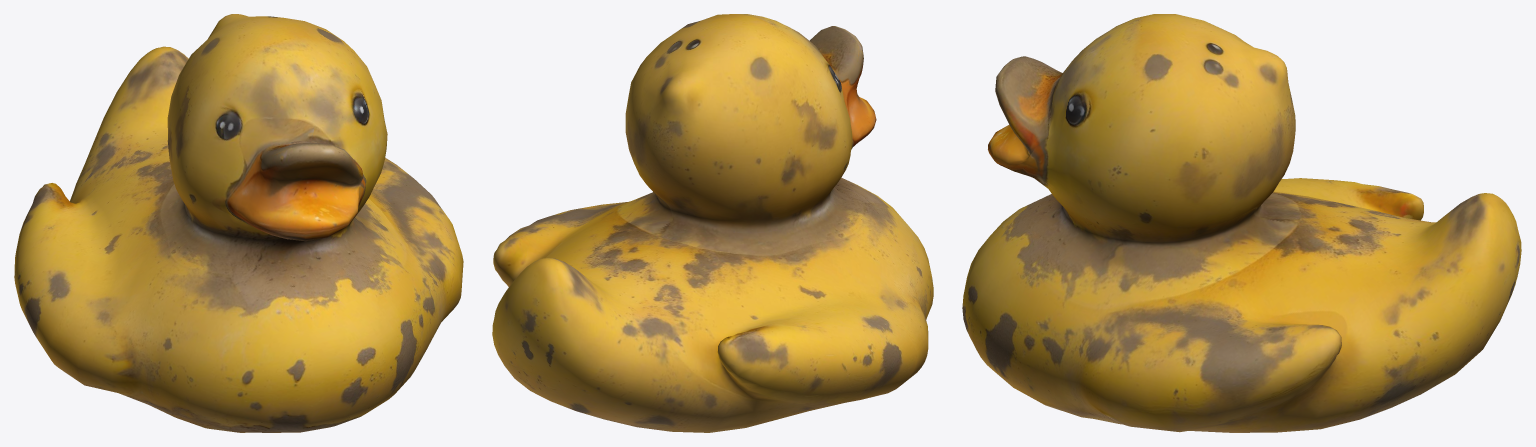
Rendered from Floating Duck v19.glb.
3 renders of one model, left to right at view 1: azimuth 30°, elevation 25°; view 2: azimuth 150°, elevation 25°; view 3: azimuth 270°, elevation 25°, orthographic. The views are drawn at different scales.
Visible parts, largest first — view 1: Mesh0; view 2: Mesh0; view 3: Mesh0.
Boxes of the visible parts, x1=… form: Mesh0: x1=14, y1=14, x2=463, y2=432; Mesh0: x1=492, y1=14, x2=933, y2=432; Mesh0: x1=962, y1=14, x2=1521, y2=432.
Bounding box in the file's own units: 1.72 × 1.41 × 2.
Materials: 1 (1 with a texture image).
